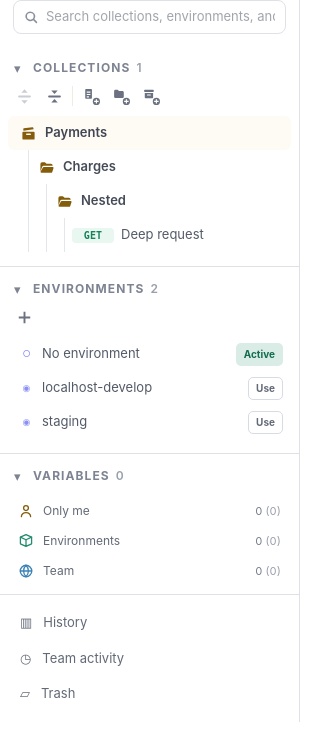
it: environments in the sidebar tree › filters environments out when the shared search matches only a collection
This screenshot has width=320, height=739.
Type "Payments" into the field named "Search collections and environments and variables". click: (160, 17)
box: [46,7,275,27]
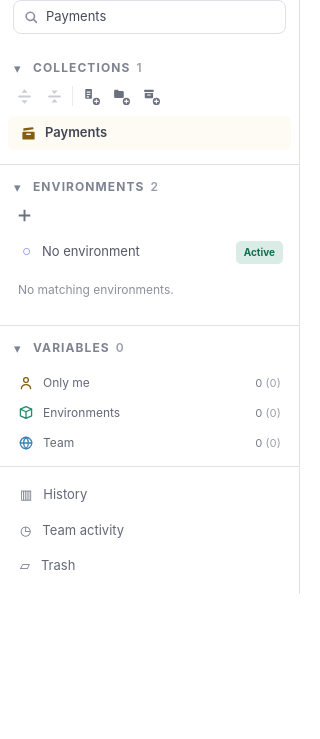
Expected: the button titled "localhost-develop" is gone
Expected: the button titled "staging" is gone
Expected: the text "No matching environments." is shown, [18,282,174,297]
